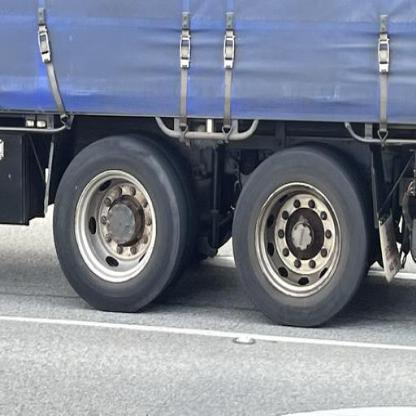Tire: (232, 143, 372, 327), (53, 136, 186, 312)
